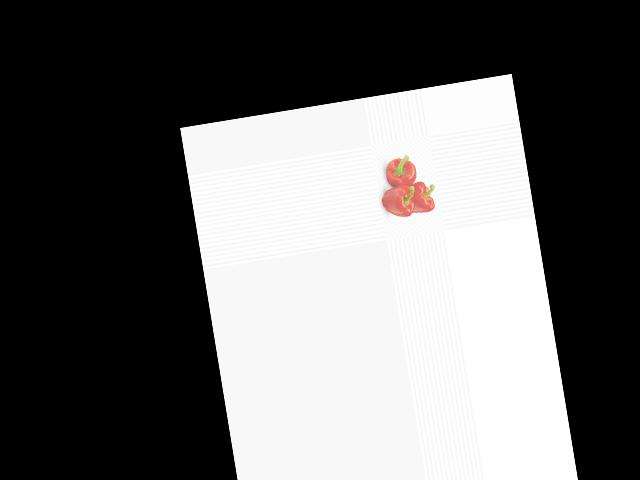bell_pepper: (380, 151, 422, 192)
